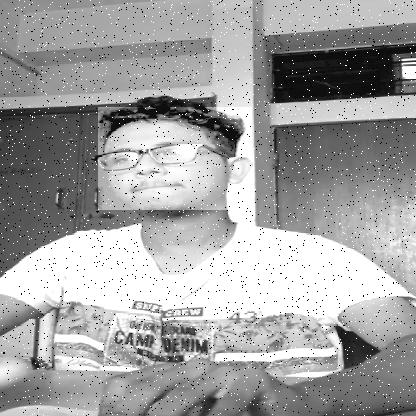Normal: (98, 107, 252, 210)
